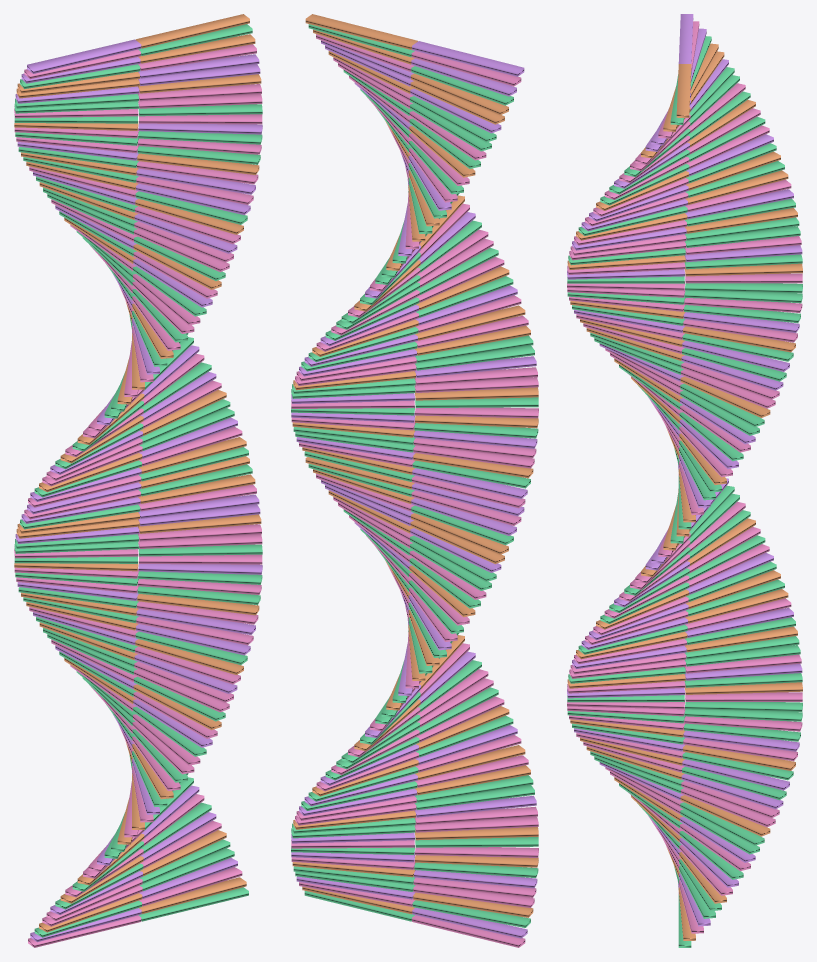
The model's file is DNAcolored-Dl-NPlYS.glb.
3 renders of one model, left to right at view 1: azimuth 30°, elevation 25°; view 2: azimuth 150°, elevation 25°; view 3: azimuth 270°, elevation 25°, orthographic. The views are drawn at different scales.
Visible parts, largest first — view 1: Cube.235, Cube.234, Cube.098, Cube.216, Cube.102, Cube.096, Cube.220, Cube.086, Cube.094, Cube.092, Cube.210, Cube.204 (+152 smaller); view 2: Cube.235, Cube.234, Cube.018, Cube.136, Cube.144, Cube.026, Cube.132, Cube.014, Cube.028, Cube.130, Cube.146, Cube.012 (+147 smaller); view 3: Cube.175, Cube.173, Cube.051, Cube.167, Cube.049, Cube.165, Cube.169, Cube.053, Cube.047, Cube.171, Cube.055, Cube.177 (+140 smaller).
Boxes of the visible parts, <box> form: Cube.235: <box>27,39,141,73</box>; Cube.234: <box>135,14,249,48</box>; Cube.098: <box>138,544,262,556</box>; Cube.216: <box>138,104,262,116</box>; Cube.102: <box>138,524,261,541</box>; Cube.096: <box>139,554,262,564</box>; Cube.220: <box>138,84,261,101</box>; Cube.086: <box>137,594,259,615</box>; Cube.094: <box>138,564,262,574</box>; Cube.092: <box>138,571,262,584</box>; Cube.210: <box>138,131,262,144</box>; Cube.204: <box>137,153,259,175</box>; Cube.235: <box>412,41,524,76</box>; Cube.234: <box>305,14,417,49</box>; Cube.018: <box>415,847,538,857</box>; Cube.136: <box>415,407,538,418</box>; Cube.144: <box>414,367,537,385</box>; Cube.026: <box>414,806,537,824</box>; Cube.132: <box>414,423,538,438</box>; Cube.014: <box>414,862,538,877</box>; Cube.028: <box>415,795,536,817</box>; Cube.130: <box>414,430,537,448</box>; Cube.146: <box>414,356,536,377</box>; Cube.012: <box>414,870,537,888</box>; Cube.175: <box>685,273,802,283</box>; Cube.173: <box>685,283,802,293</box>; Cube.051: <box>684,716,802,731</box>; Cube.167: <box>684,305,800,323</box>; Cube.049: <box>684,723,800,741</box>; Cube.165: <box>683,312,799,332</box>; Cube.169: <box>684,298,802,312</box>; Cube.053: <box>684,709,802,721</box>; Cube.047: <box>683,730,799,751</box>; Cube.171: <box>684,290,802,303</box>; Cube.055: <box>685,702,802,711</box>; Cube.177: <box>685,263,802,276</box>.
Size of the model in its own units: 3.02 by 11.78 by 3.02.
